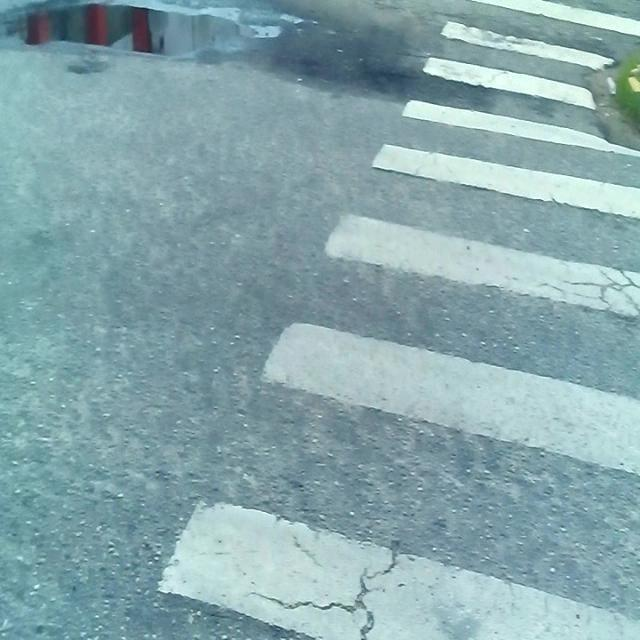crosswalk: (99, 0, 640, 640)
